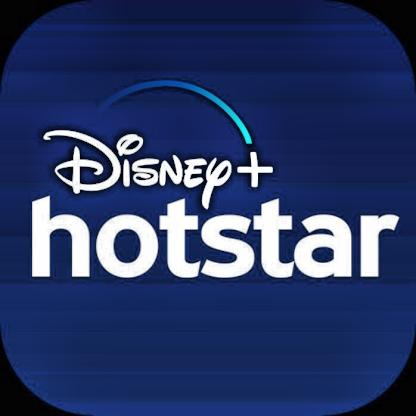Hotstar: (30, 73, 401, 281)
